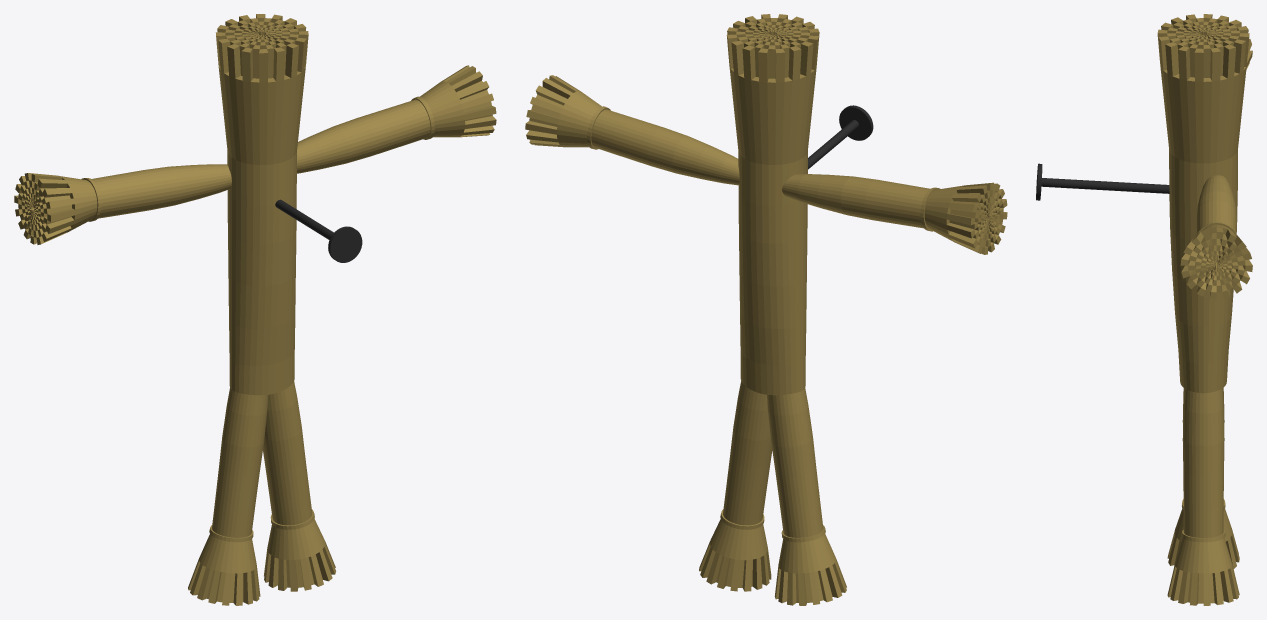
File: StrawDoll.fbx
3 views of the same model, side by side, from view 1: azimuth 30°, elevation 25°; view 2: azimuth 150°, elevation 25°; view 3: azimuth 270°, elevation 25° (orthographic).
Parts seen in each view (by area): view 1: Cylinder; view 2: Cylinder; view 3: Cylinder.
Boxes of the visible parts, left/top/right/bottom form: Cylinder: left=14, top=14, right=496, bottom=605; Cylinder: left=525, top=14, right=1007, bottom=605; Cylinder: left=1036, top=14, right=1252, bottom=605.
Bounding box in the file's own units: 1347 × 1584 × 568.
